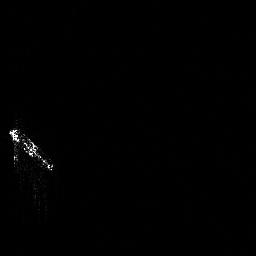ship: (9, 126, 55, 175)
